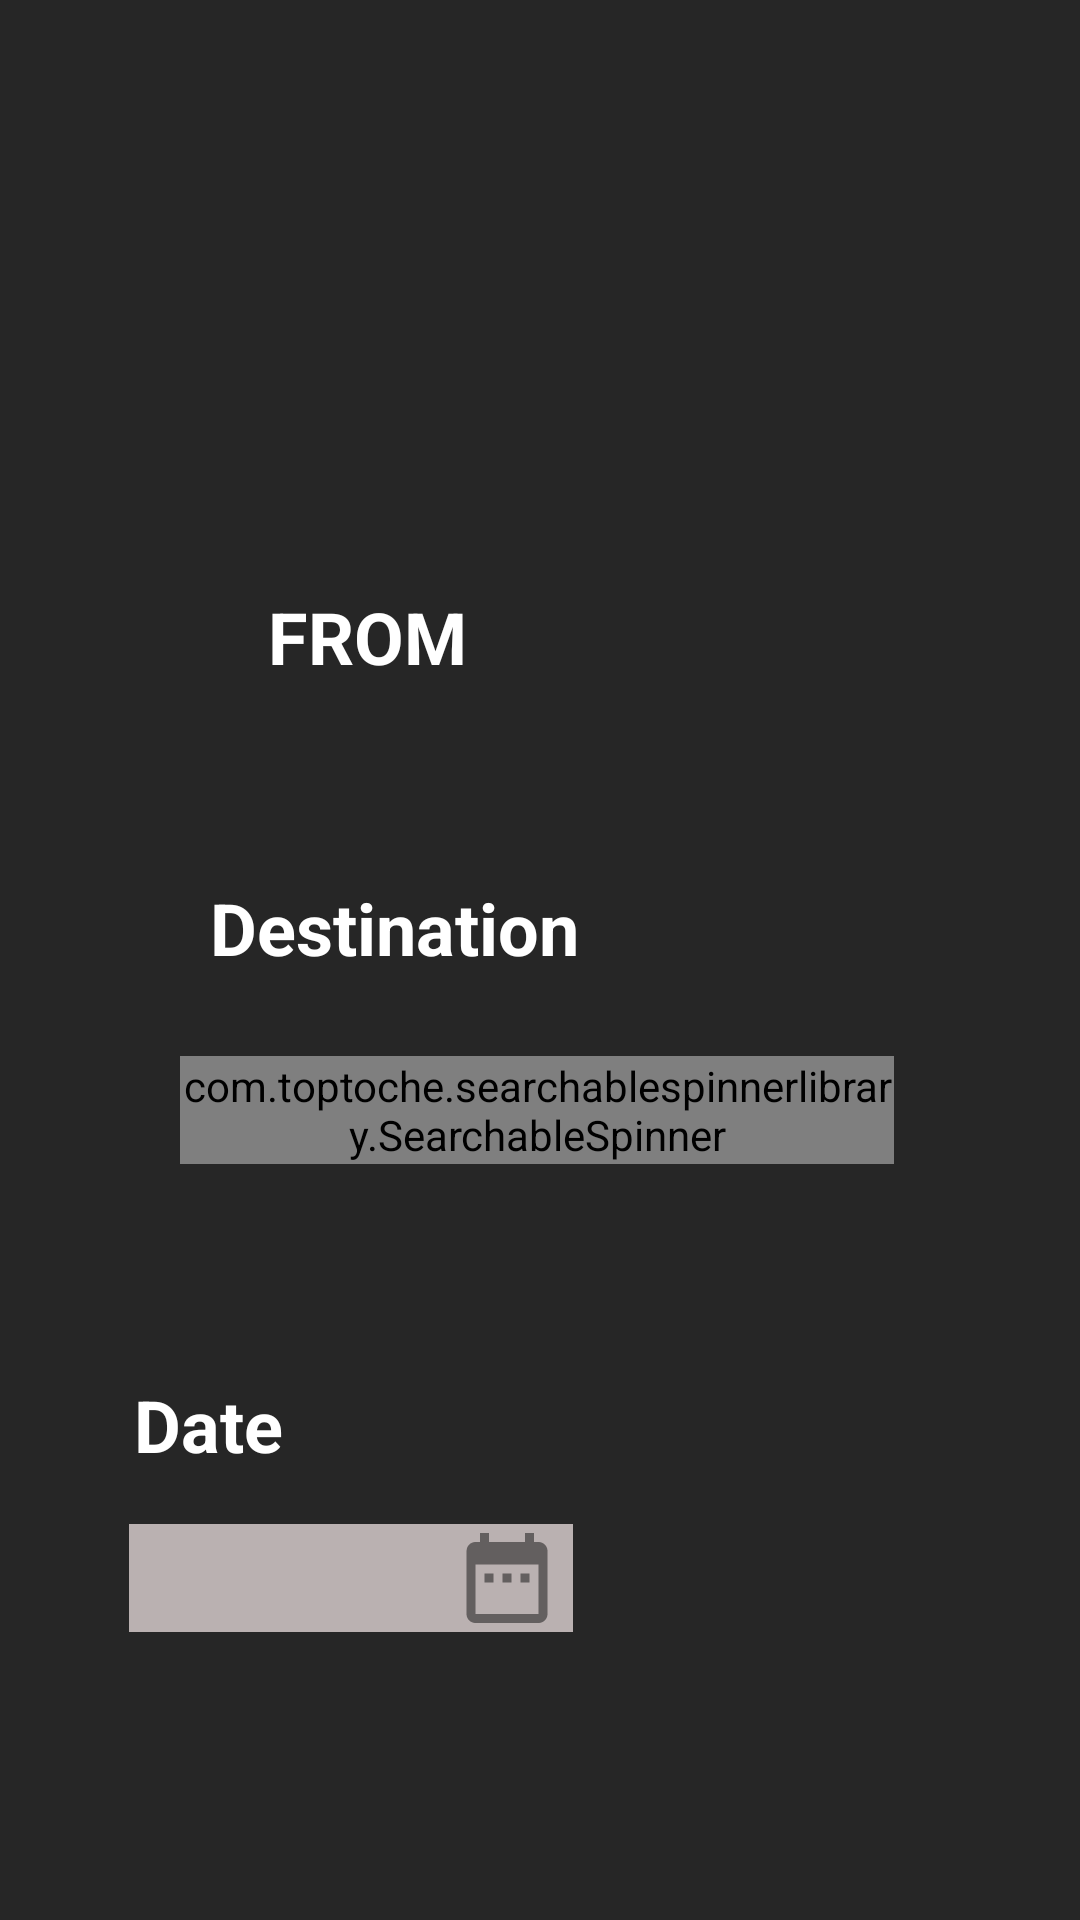

Named icons in this screenshot (1080×1920) and their bounding boxes, box(x1, y1, x2, y2):
date range: box(441, 1524, 573, 1632)
